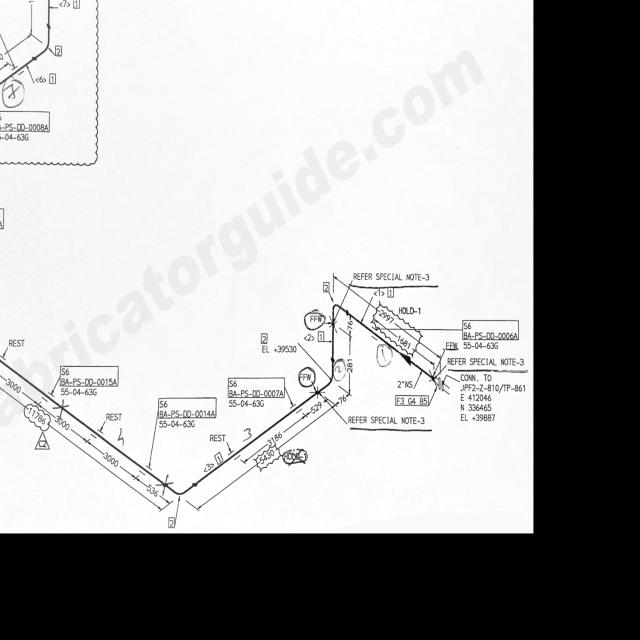Item number: (228, 376, 287, 400), (461, 319, 520, 343), (60, 365, 120, 388), (157, 397, 217, 420), (0, 111, 51, 134), (394, 393, 430, 407), (381, 289, 394, 299), (54, 43, 62, 58), (445, 341, 457, 351), (1, 205, 5, 232), (168, 515, 176, 528), (48, 71, 56, 84), (260, 332, 268, 345), (323, 280, 330, 294), (318, 330, 326, 342)
Measrement: (1, 385, 164, 512), (338, 275, 443, 364), (249, 402, 325, 464), (194, 456, 261, 512), (84, 437, 140, 481), (37, 401, 90, 444), (1, 371, 41, 407), (132, 474, 172, 509), (1, 29, 32, 65), (327, 390, 351, 411)
Symbol: (315, 357, 339, 399), (31, 21, 52, 63), (163, 480, 198, 500), (330, 300, 349, 331), (430, 369, 451, 395), (402, 348, 415, 368)
Weld number: (1, 75, 26, 110), (304, 309, 326, 332), (296, 366, 315, 389), (375, 344, 392, 368)
other: (456, 373, 526, 423), (347, 414, 432, 431), (450, 342, 499, 351), (60, 388, 98, 397), (158, 420, 195, 429), (262, 345, 298, 354), (229, 400, 266, 408), (1, 133, 30, 143)
